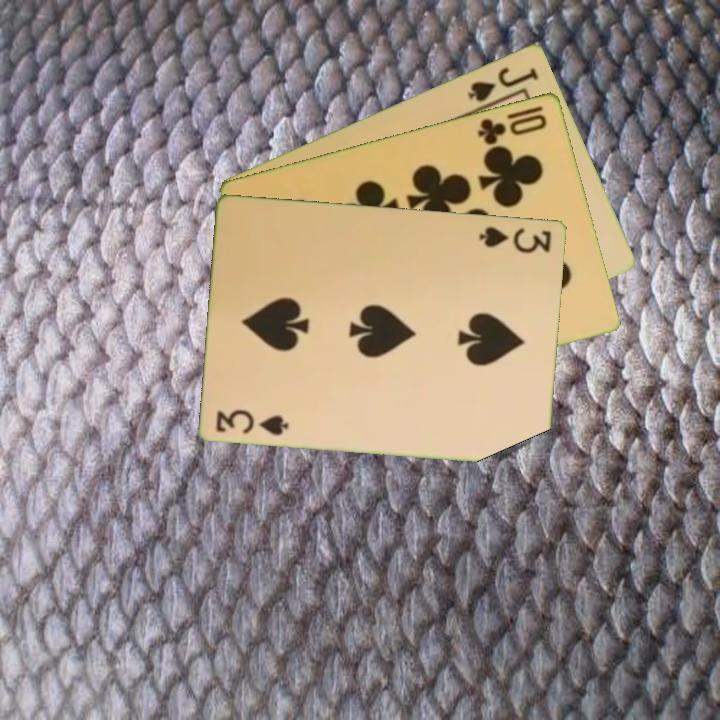10c: (474, 110, 550, 148)
3s: (476, 222, 555, 256), (213, 405, 292, 438)
Js: (464, 63, 542, 104)
